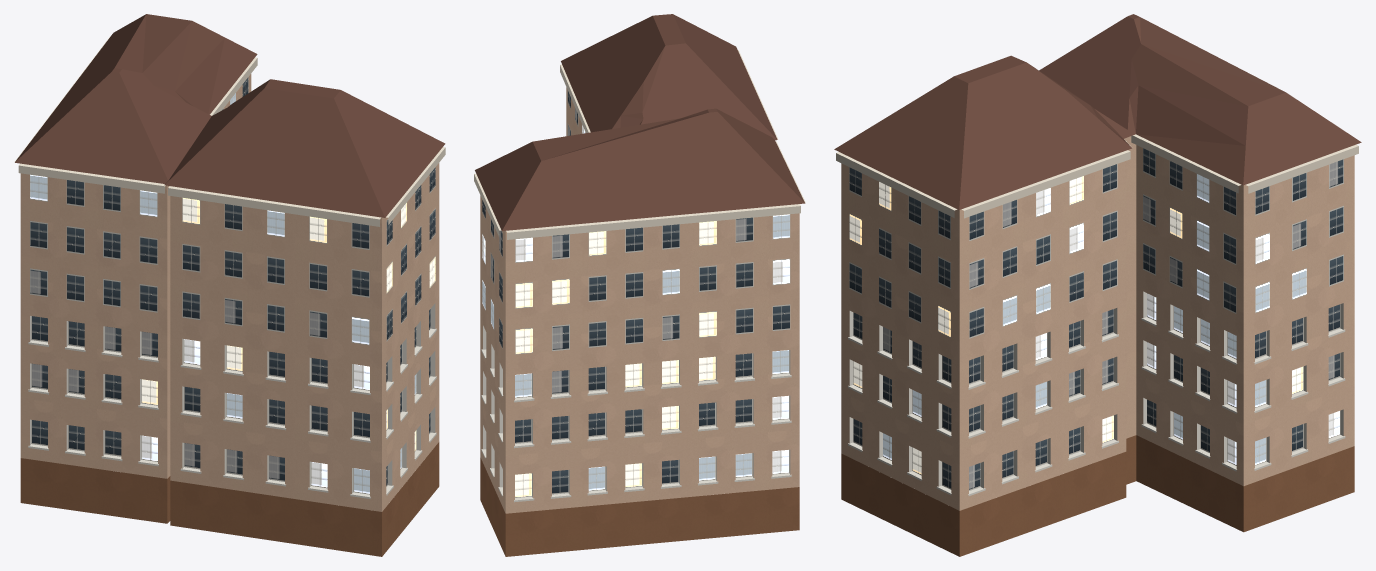
The model's file is z4L_thomas_pink2.glb.
3 views of the same model, side by side, from view 1: azimuth 30°, elevation 25°; view 2: azimuth 150°, elevation 25°; view 3: azimuth 270°, elevation 25° (orthographic). The views are drawn at different scales.
Parts seen in each view (by area): view 1: z4L_thomas_pink2; view 2: z4L_thomas_pink2; view 3: z4L_thomas_pink2.
Boxes of the visible parts, left/top/right/bottom form: z4L_thomas_pink2: left=14, top=14, right=445, bottom=556; z4L_thomas_pink2: left=474, top=14, right=805, bottom=556; z4L_thomas_pink2: left=834, top=14, right=1361, bottom=556.
Bounding box in the file's own units: 23.93 × 27.78 × 31.16.
Materials: 3 (3 with a texture image).
